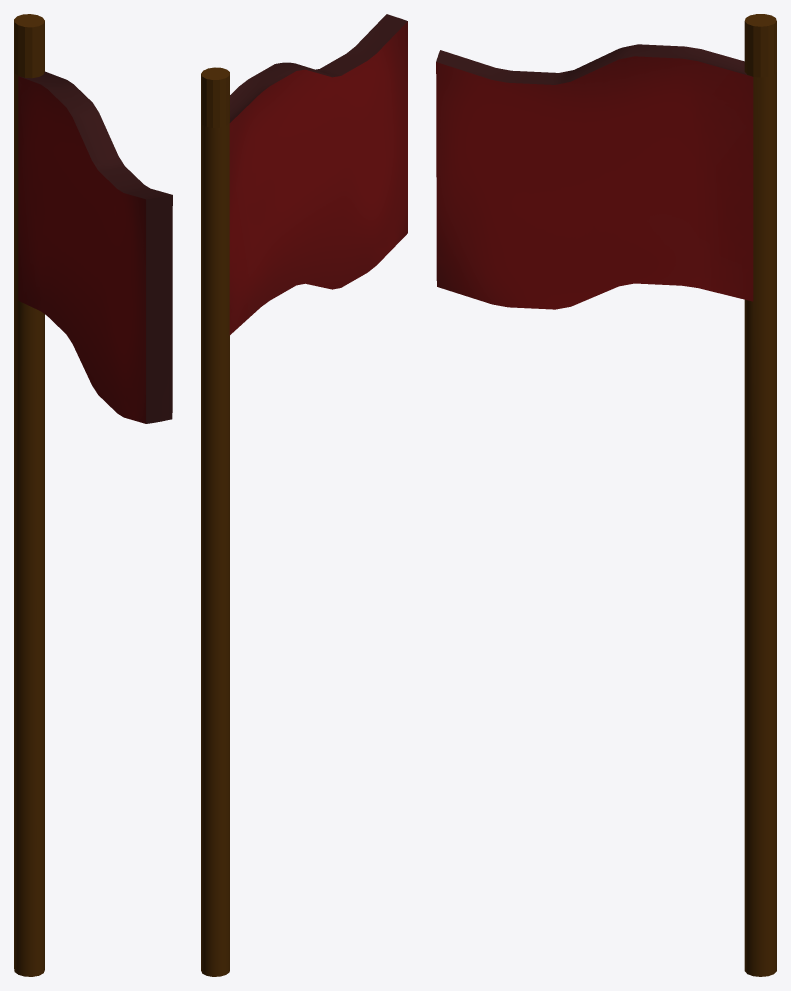
Rendered from banderaRoja.FBX.
3 views of the same model, side by side, from view 1: azimuth 30°, elevation 25°; view 2: azimuth 150°, elevation 25°; view 3: azimuth 270°, elevation 25° (orthographic). The views are drawn at different scales.
Visible parts, largest first — view 1: Cylinder001; view 2: Cylinder001; view 3: Cylinder001.
Boxes of the visible parts, x1,y1,x2,y2 form: Cylinder001: (14,14,172,976); Cylinder001: (201,14,407,976); Cylinder001: (436,14,776,976).
Bounding box in the file's own units: 4.3 × 68.87 × 22.38.
